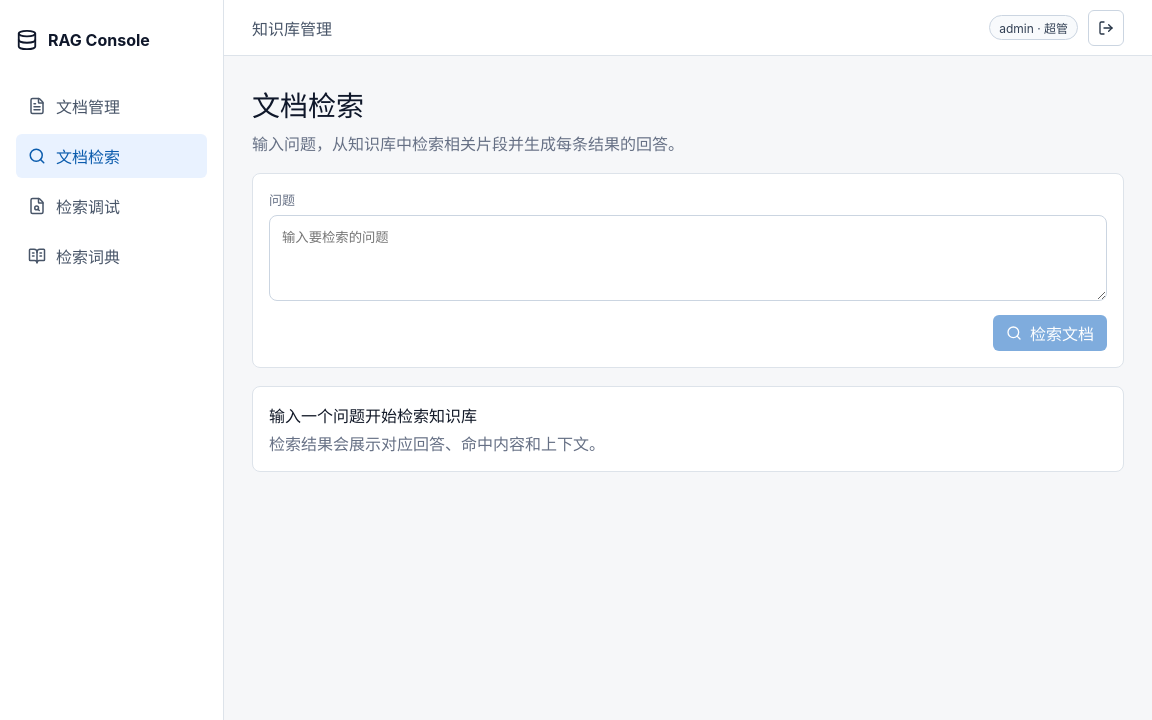
document management app › redirects to login after logout
Expected: the heading "文档检索" is shown, 252,89 -> 364,123
Click the button named "退出登录". click: (1106, 28)
box: 1088,10 -> 1124,46
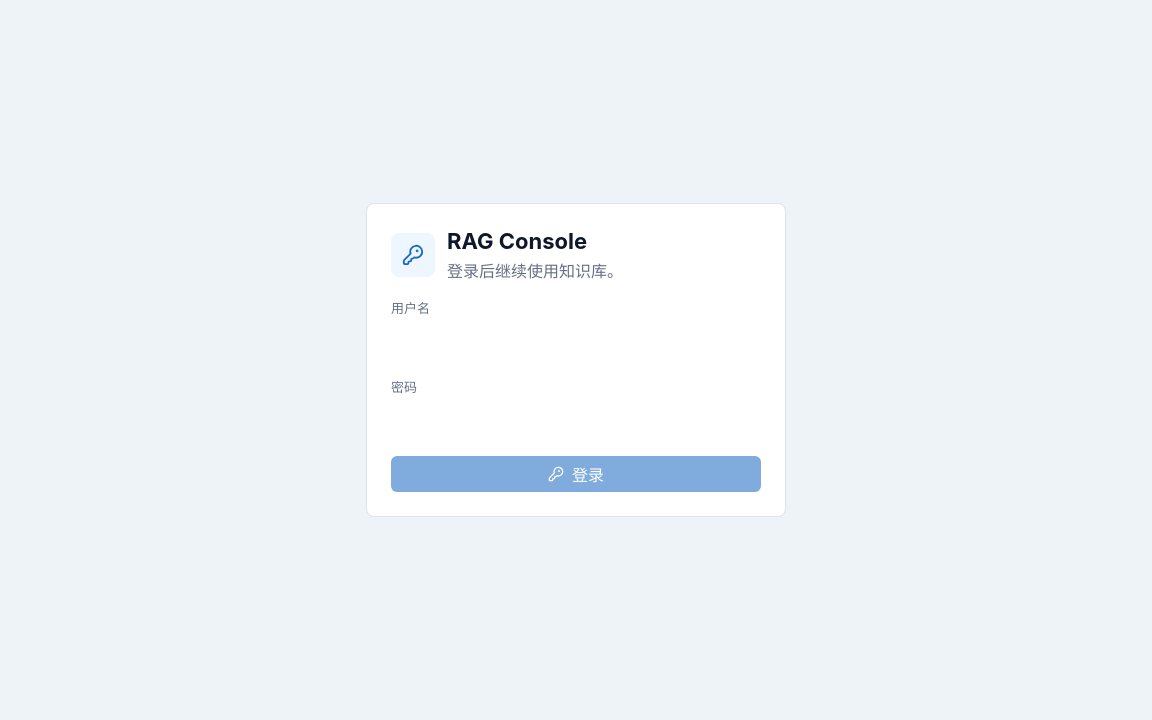
Expected: the button "登录" is disabled, 391,456 -> 761,492
Expected: the heading "RAG Console" is shown, 447,228 -> 587,254
